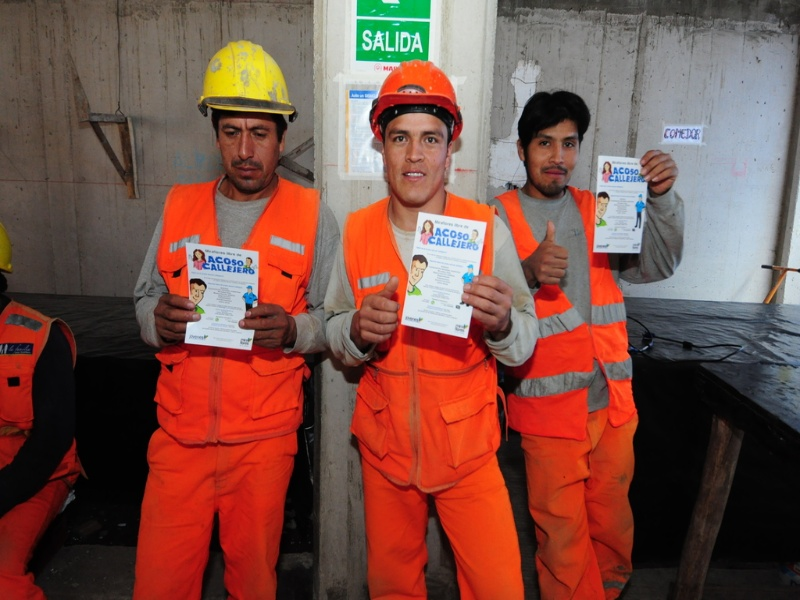Baret: (201, 38, 293, 121), (366, 57, 466, 127)
